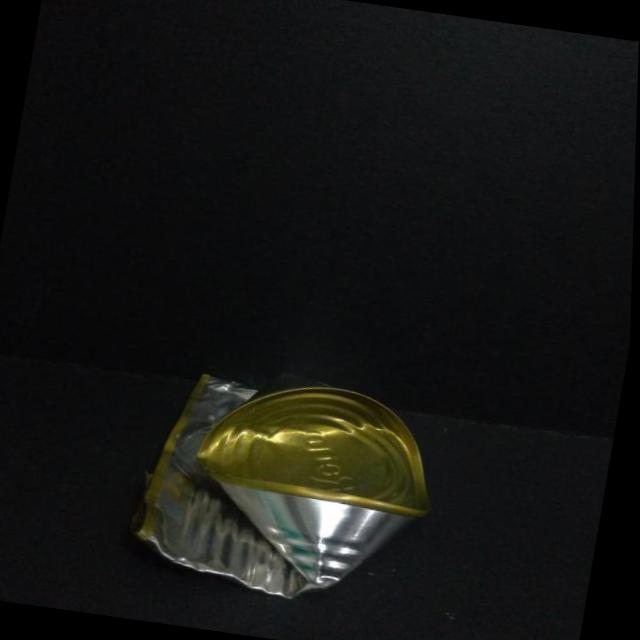metal: (134, 374, 429, 596)
